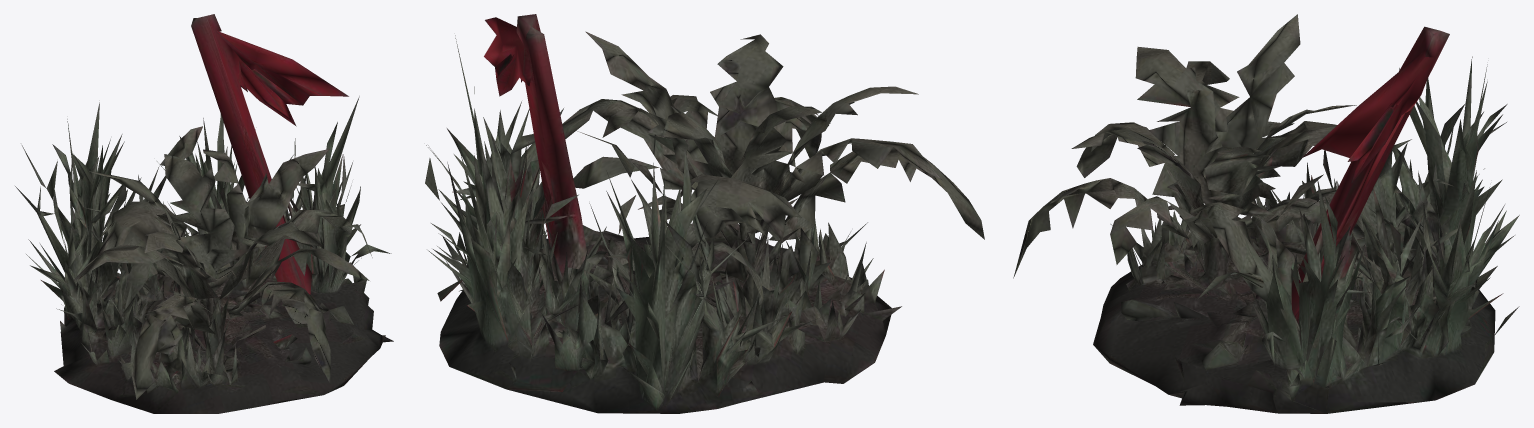
File: bush_fern.glb
3 views of the same model, side by side, from view 1: azimuth 30°, elevation 25°; view 2: azimuth 150°, elevation 25°; view 3: azimuth 270°, elevation 25° (orthographic). The views are drawn at different scales.
Visible parts, largest first — view 1: Mesh_0; view 2: Mesh_0; view 3: Mesh_0.
Part boxes in pixels (x1=…): Mesh_0: x1=15, y1=14, x2=393, y2=413; Mesh_0: x1=425, y1=14, x2=984, y2=413; Mesh_0: x1=1013, y1=14, x2=1519, y2=413.
Bounding box in the file's own units: 1.67 × 1.26 × 1.73.
Materials: 1 (1 with a texture image).
